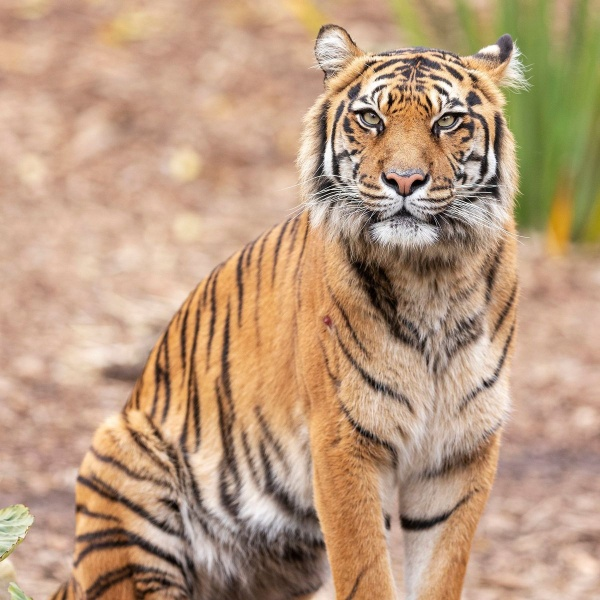Tiger: (50, 23, 533, 600)
